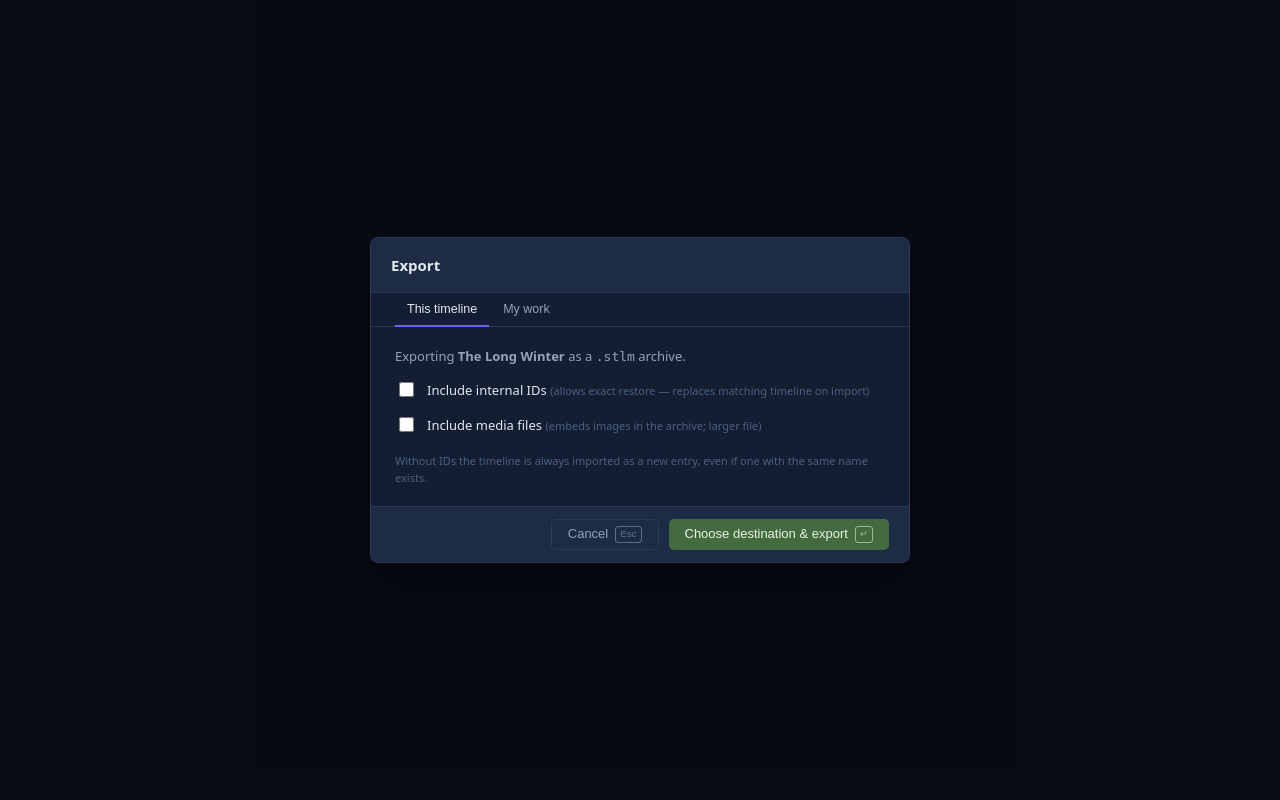
Test: ExportTimelineModal — my work › will not export nothing
Click the tab with class "tab" showing "My work".
click(526, 310)  # box [491,293,562,327]
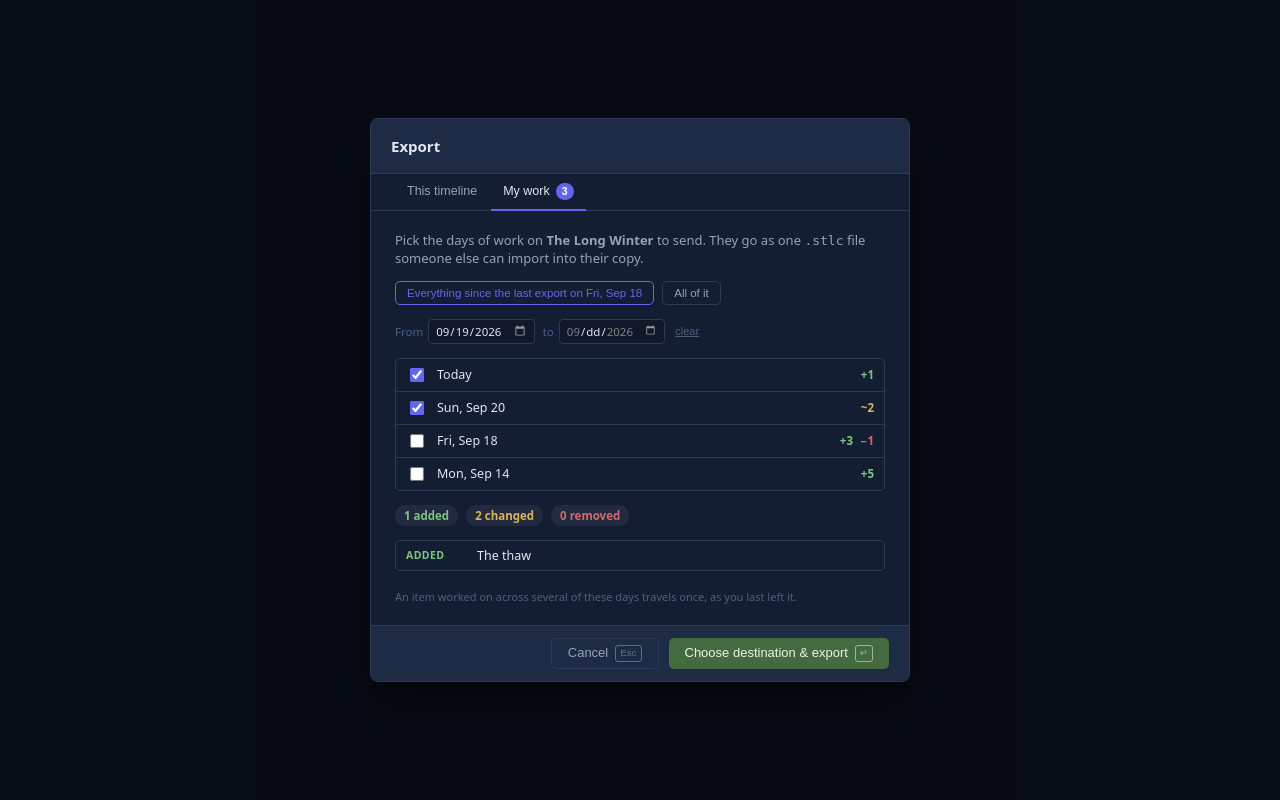
Type "2026-09-23" into the date field labelled "From".
click(481, 331); type("2026-09-23")  # box [428,319,535,344]
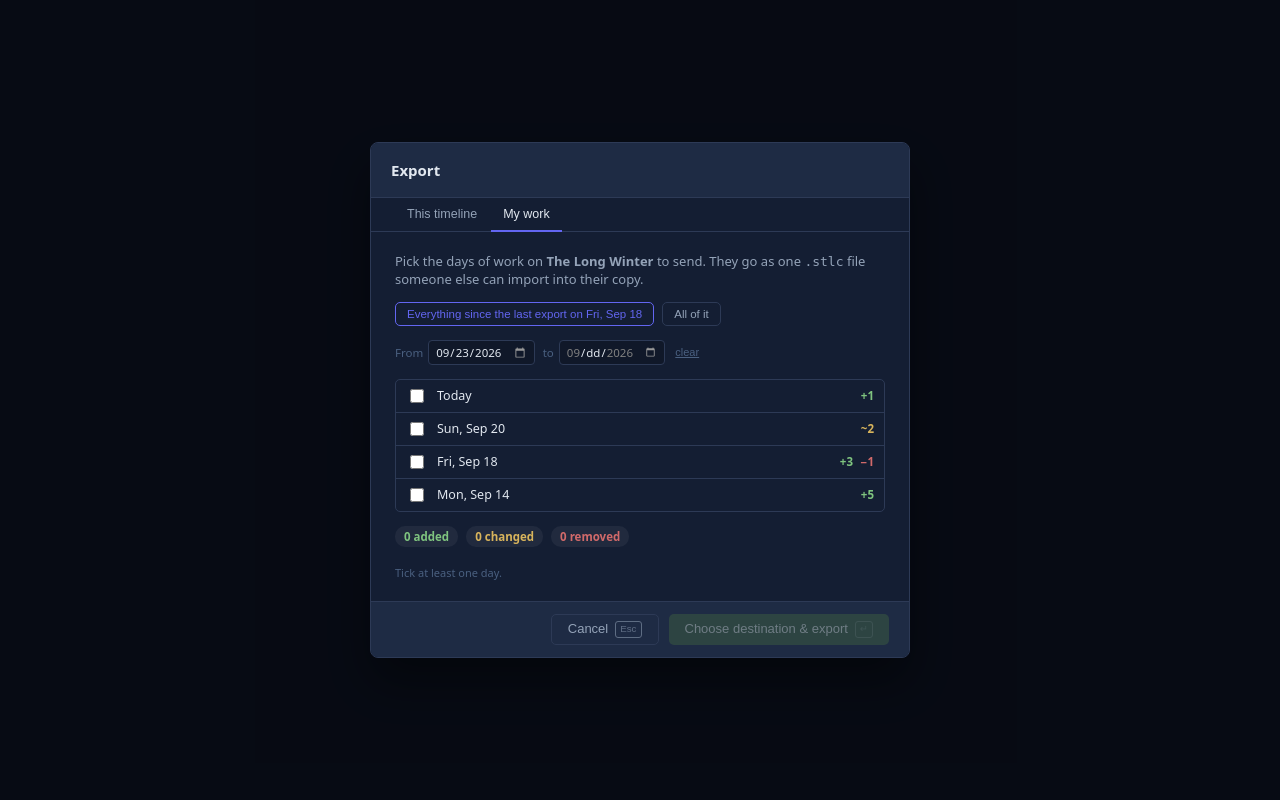
Expected: the button "Choose destination & export" is disabled, [668,614,889,645]
